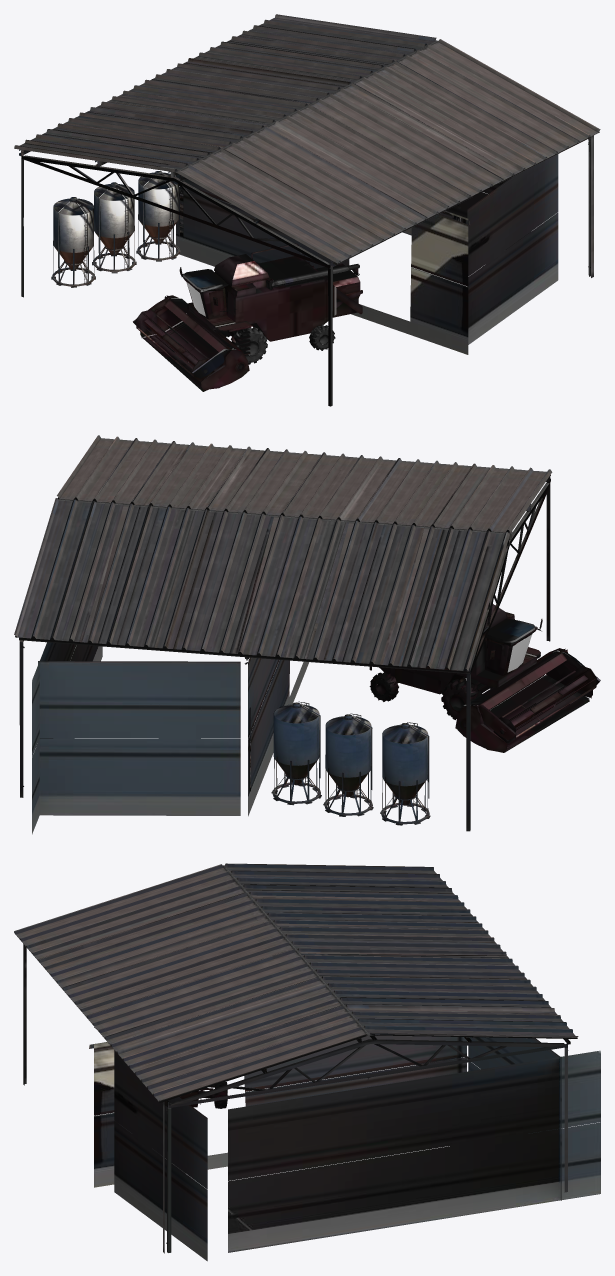
Rendered from Galpao.glb.
3 renders of one model, top to bottom at view 1: azimuth 30°, elevation 25°; view 2: azimuth 150°, elevation 25°; view 3: azimuth 270°, elevation 25°, orthographic. The views are drawn at different scales.
Visible parts, largest first — view 1: Galpão_Telhado, Galpão_Paredes, Colheitadeira_Corpo, Galpão_Estrutura, Silo01, Silo02, Silo03, Colheitadeira_PartesMenores, Colheitadeira_Pneus; view 2: Galpão_Telhado, Galpão_Paredes, Colheitadeira_Corpo, Silo02, Silo01, Silo03, Galpão_Estrutura, Colheitadeira_PartesMenores; view 3: Galpão_Telhado, Galpão_Paredes, Galpão_Estrutura.
Part boxes in pixels (<box>): Galpão_Telhado: <box>14,14,600,268</box>; Galpão_Paredes: <box>176,154,558,354</box>; Colheitadeira_Corpo: <box>133,243,362,391</box>; Galpão_Estrutura: <box>21,135,593,406</box>; Silo01: <box>51,197,95,287</box>; Silo02: <box>92,182,136,273</box>; Silo03: <box>136,171,180,261</box>; Colheitadeira_PartesMenores: <box>183,264,359,378</box>; Colheitadeira_Pneus: <box>232,324,335,364</box>; Galpão_Telhado: <box>14,435,552,787</box>; Galpão_Paredes: <box>32,642,309,834</box>; Colheitadeira_Corpo: <box>369,604,599,752</box>; Silo02: <box>323,713,373,816</box>; Silo01: <box>380,722,430,825</box>; Silo03: <box>271,701,321,805</box>; Galpão_Estrutura: <box>19,482,550,831</box>; Colheitadeira_PartesMenores: <box>487,619,600,681</box>; Galpão_Telhado: <box>14,863,578,1243</box>; Galpão_Paredes: <box>94,1035,600,1261</box>; Galpão_Estrutura: <box>23,944,567,1253</box>.
Size of the model in its own units: 21.15 by 8.67 by 22.37.
Materials: 3 (2 with a texture image).
